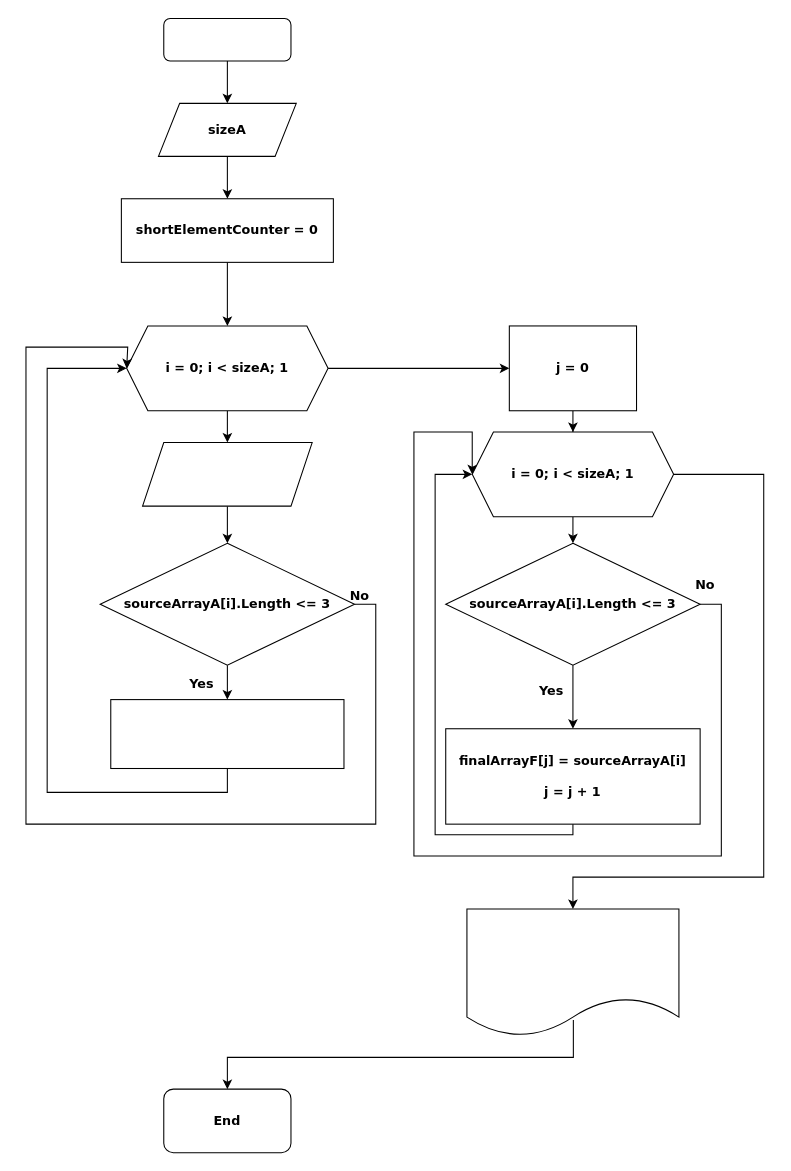
Image size: 791x1171. Some labels were removed from this diagram. The box of each missing label's shape, as (x1, y1, x2, y2) in pixels:
shortElementCounter = shortElementCounter + 1: (110, 699, 344, 768)
sourceArrayA[ ] finalArrayF[ ]: (466, 908, 679, 1036)
sourceArrayA[i]: (142, 441, 312, 506)
Start: (163, 17, 291, 61)
